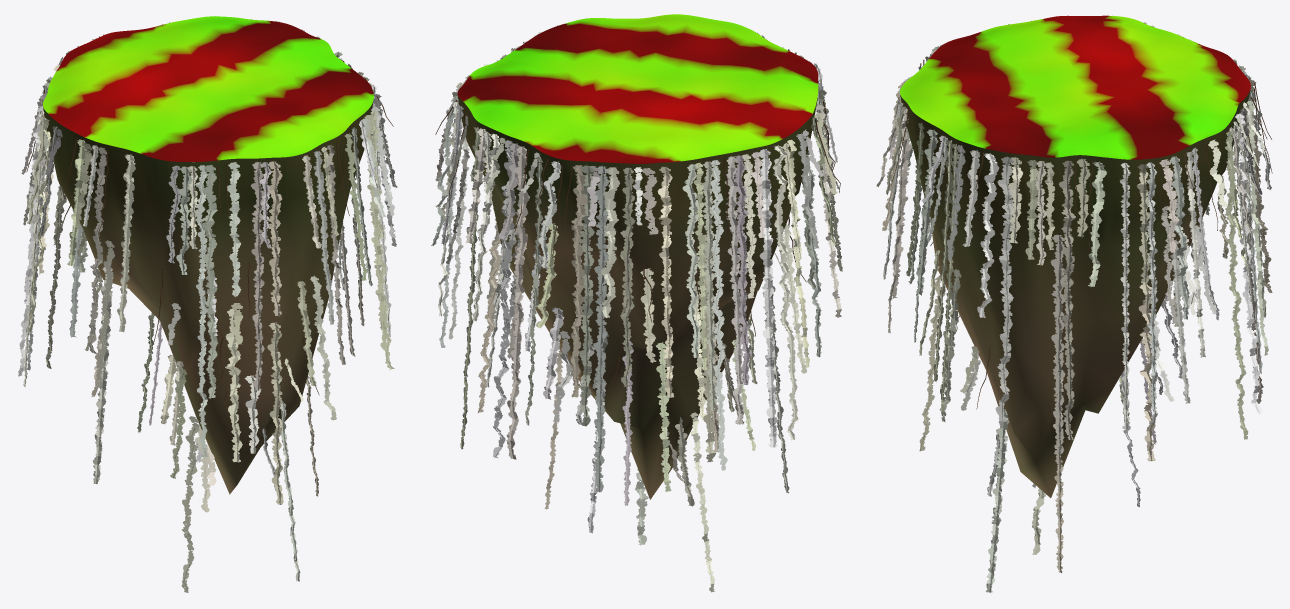
File: SM_H18_Floater04.fbx
3 views of the same model, side by side, from view 1: azimuth 30°, elevation 25°; view 2: azimuth 150°, elevation 25°; view 3: azimuth 270°, elevation 25° (orthographic). The views are drawn at different scales.
Visible parts, largest first — view 1: SM_H18_Floater04, SM_H18_Floater04_Ivy; view 2: SM_H18_Floater04, SM_H18_Floater04_Ivy; view 3: SM_H18_Floater04, SM_H18_Floater04_Ivy.
Boxes of the visible parts, x1,y1,x2,y2 form: SM_H18_Floater04: (43, 16, 373, 494); SM_H18_Floater04_Ivy: (18, 19, 397, 592); SM_H18_Floater04: (457, 14, 818, 499); SM_H18_Floater04_Ivy: (431, 25, 842, 592); SM_H18_Floater04: (900, 15, 1250, 497); SM_H18_Floater04_Ivy: (876, 15, 1272, 592).
Bounding box in the file's own units: 34.7 × 48.56 × 35.73.
